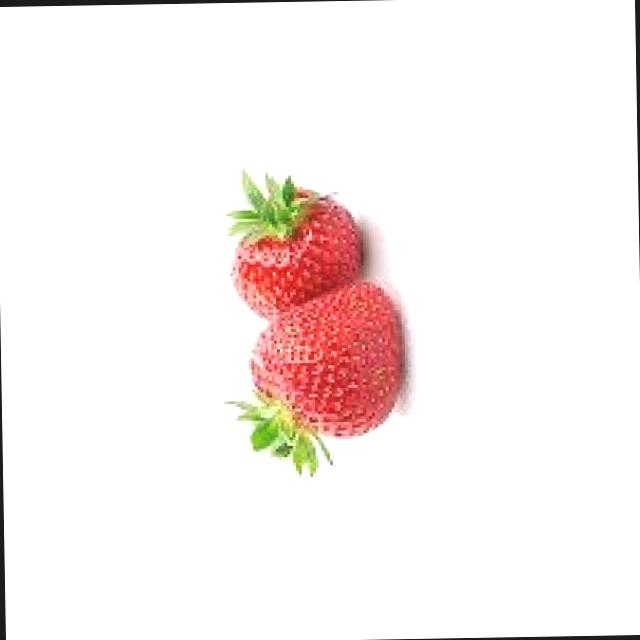strawberry: (221, 277, 426, 468), (215, 174, 373, 328)
